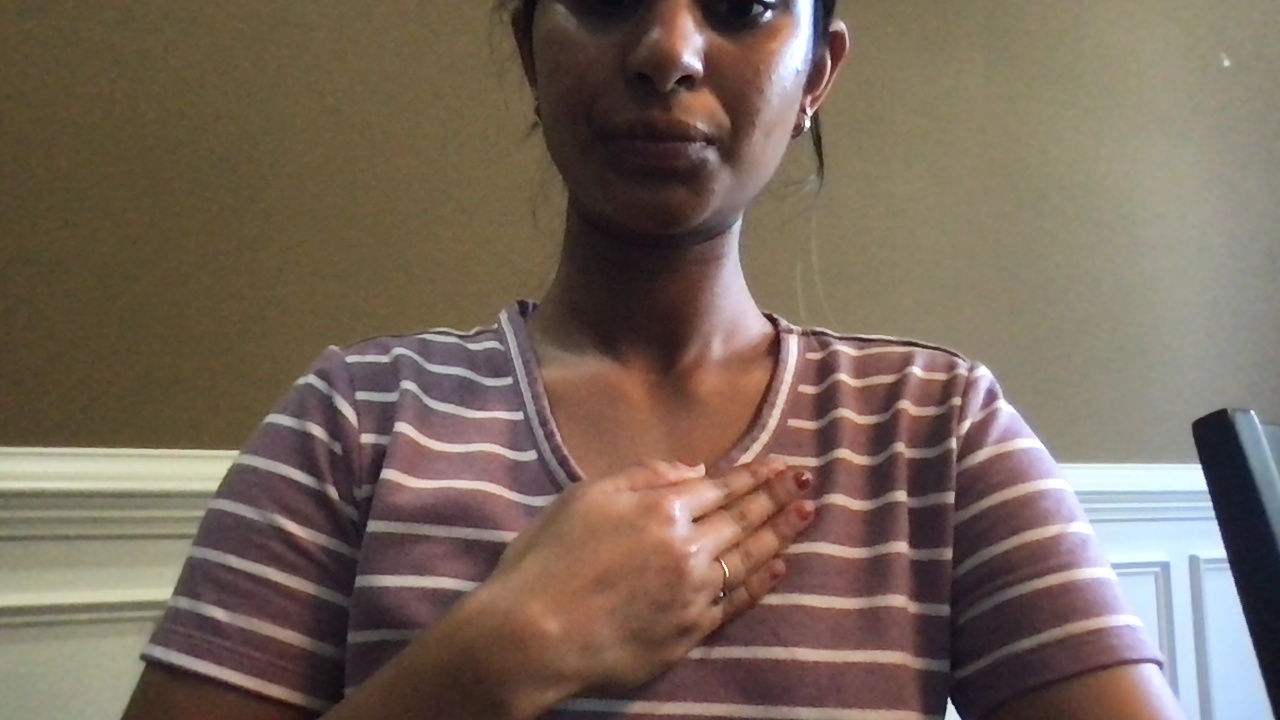Please: (452, 430, 838, 715)
